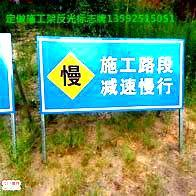sign: (38, 37, 182, 109)
